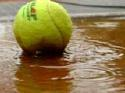tennis ball: (10, 1, 76, 59)
